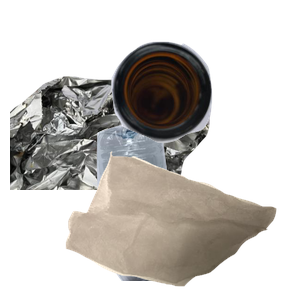glass: (109, 39, 300, 175)
metal: (10, 73, 212, 253)
plastic: (94, 120, 267, 300)
trash: (63, 149, 300, 300)
